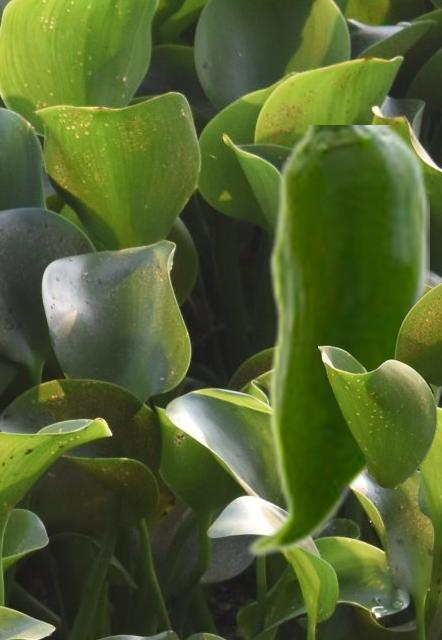green_chili: (244, 125, 428, 558)
